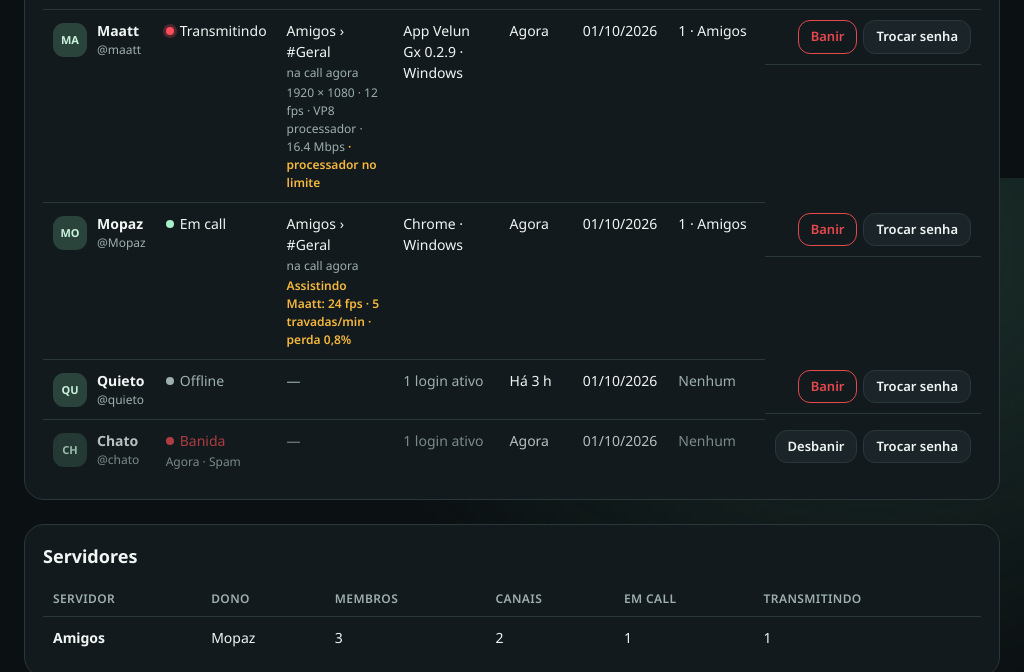
Painel de administração › troca a senha de uma conta, gera senha e mostra o resultado só uma vez
(page scrolled)
Click the button with aria-label "Trocar senha de Quieto": [917, 387] box [864, 370, 971, 403]
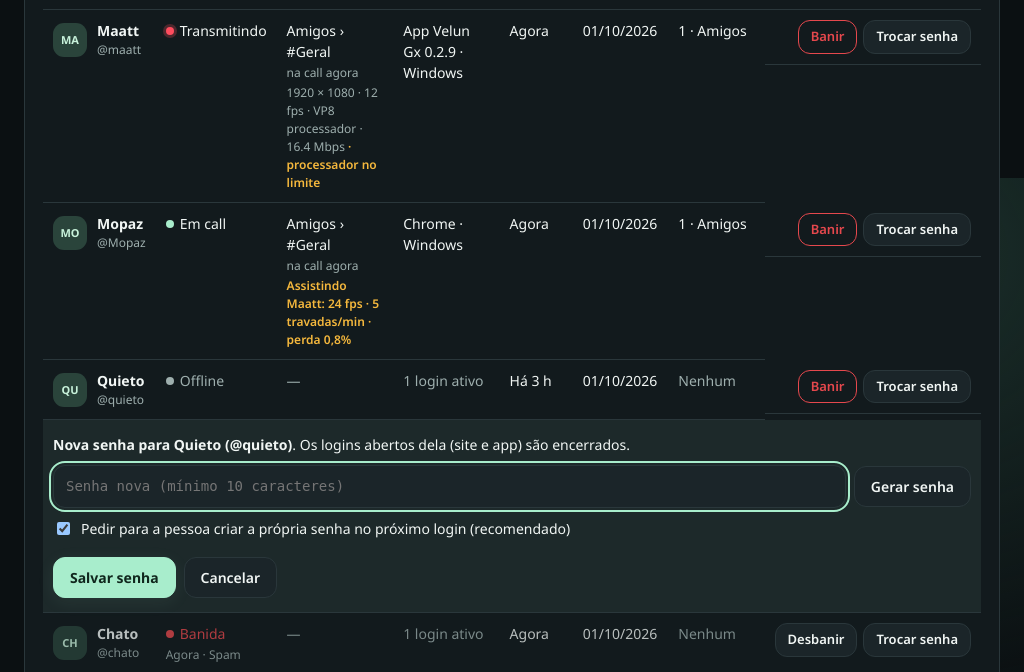
Click the button "Gerar senha": [912, 487] box [854, 466, 971, 507]
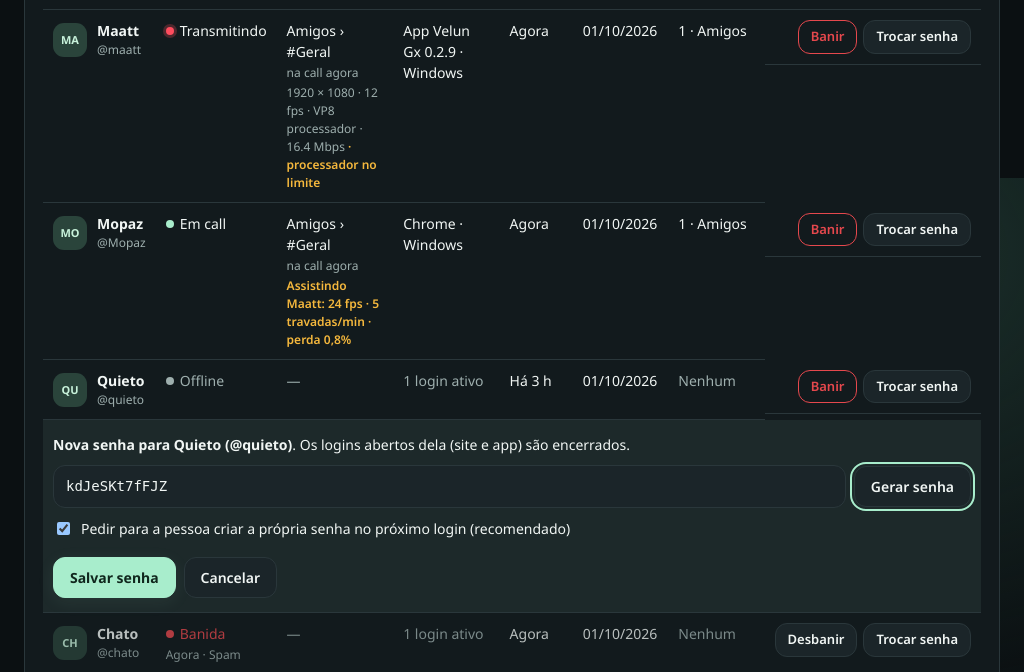
Replace the text in the field named "Senha nova da conta" with "senha-provisoria-1": [449, 487] box [53, 465, 846, 508]
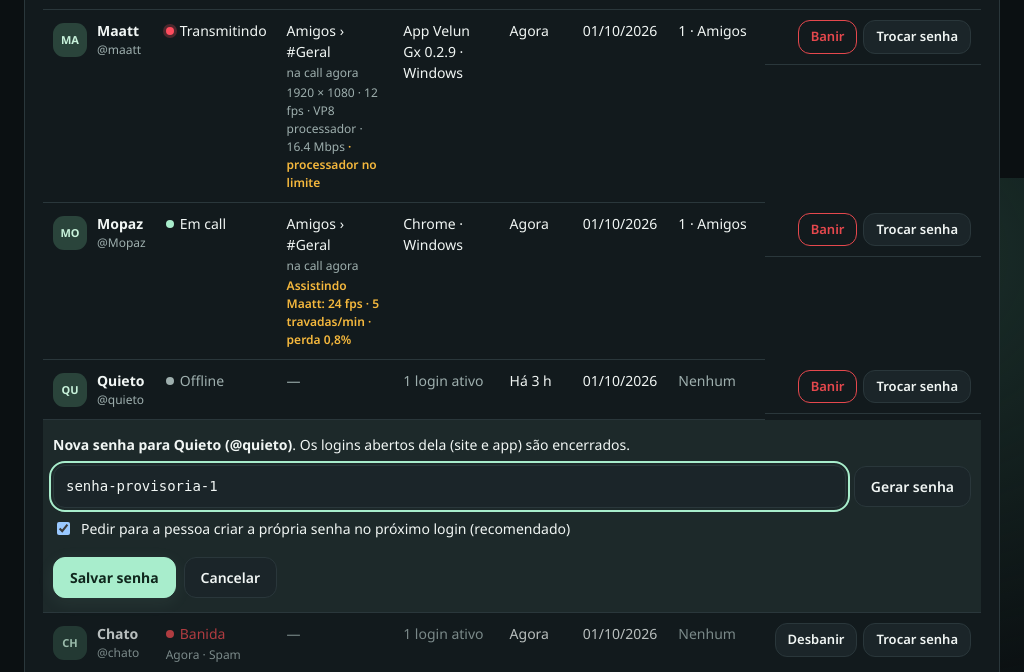
Click the checkbox labelled "criar a própria senha": [64, 529] box [57, 522, 70, 535]
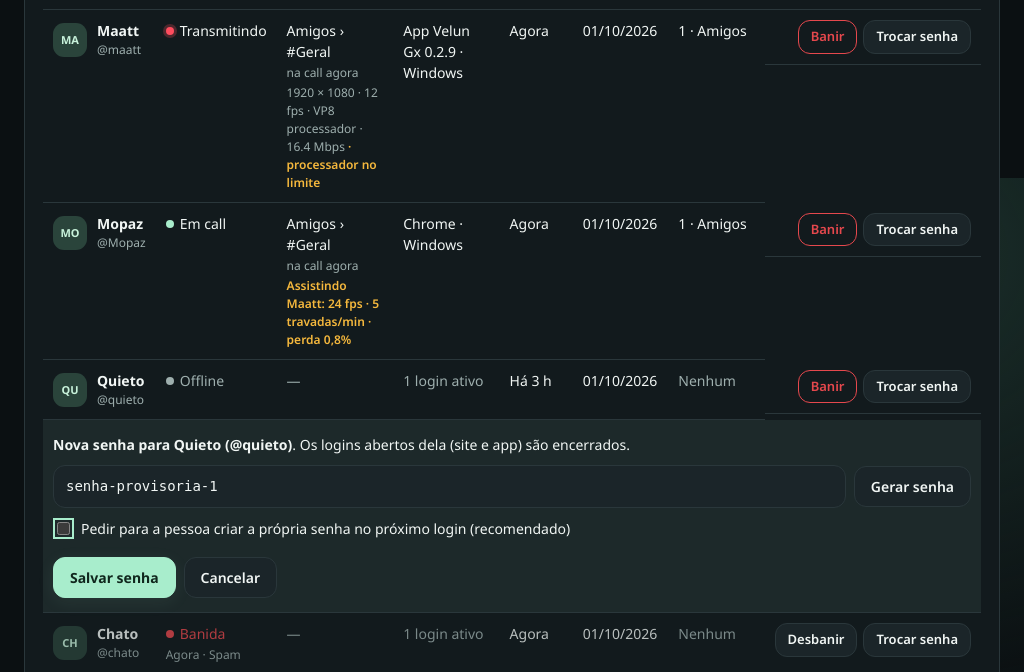
Click the button "Salvar senha": [114, 578] box [53, 557, 176, 598]
(page scrolled)
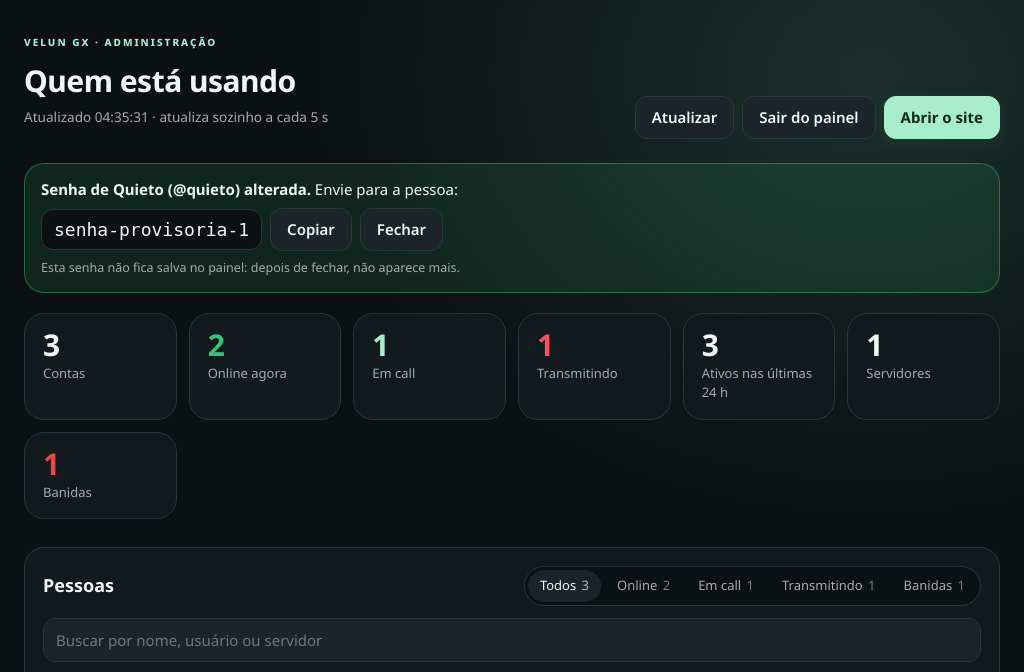
expect the text "senha-provisoria-1" is shown: met, box [41, 209, 262, 250]
Click the button "Fechar": [401, 230] box [360, 208, 443, 251]
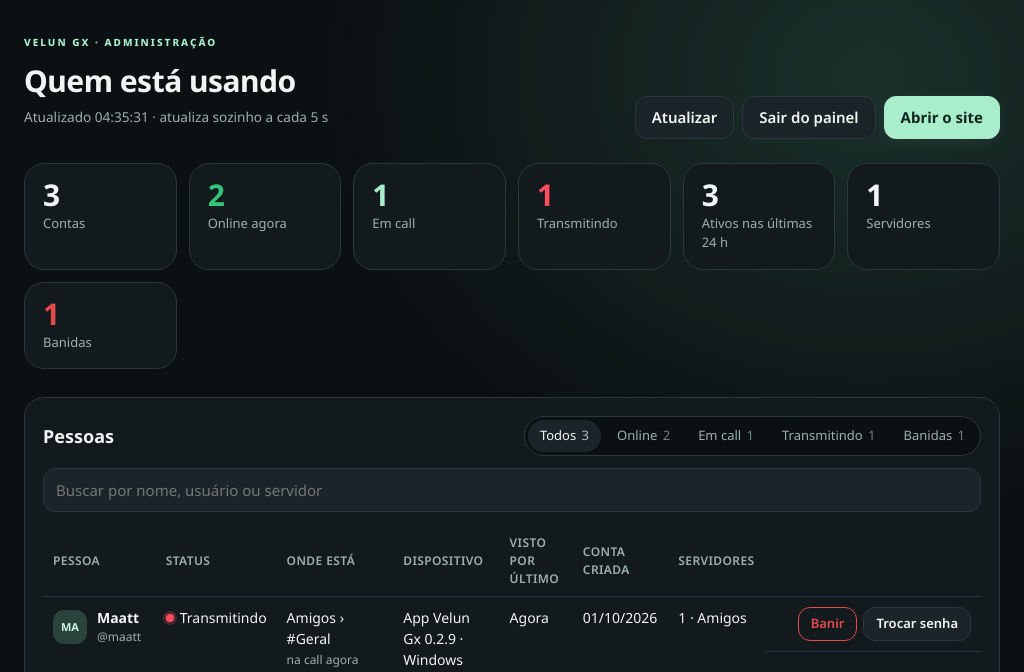
expect the text "senha-provisoria-1" is gone: met
